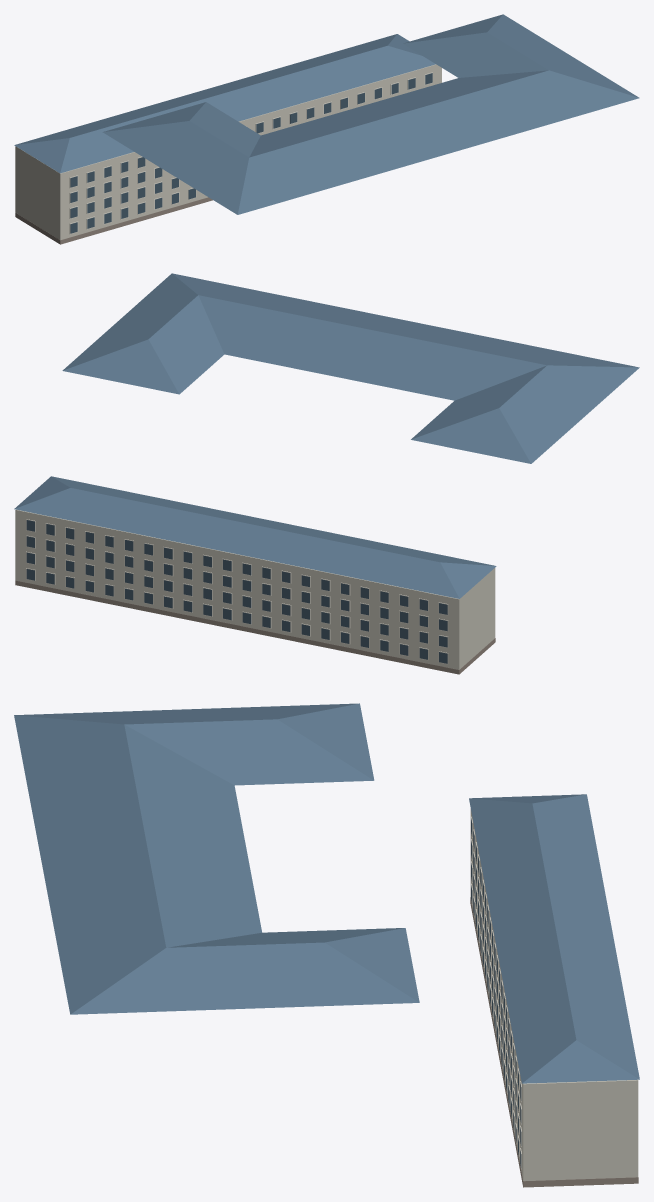
Rendered from SEU_building_patch_v14.glb.
The picture shows the model from 3 angles, top to bottom: view 1: azimuth 30°, elevation 25°; view 2: azimuth 150°, elevation 25°; view 3: azimuth 270°, elevation 25°; orthographic projection. The views are drawn at different scales.
Visible parts, largest first — view 1: TJB_SOUTH_U_HIPPED_ROOF, TJB_NORTH_HIPPED_ROOF, TJB_NORTH_CORE, TJB_NORTH_GLAZING, TJB_NORTH_FRAME_GRID_4_VISIBLE_ROWS, TJB_NORTH_BASE; view 2: TJB_SOUTH_U_HIPPED_ROOF, TJB_NORTH_CORE, TJB_NORTH_HIPPED_ROOF, TJB_NORTH_GLAZING, TJB_NORTH_FRAME_GRID_4_VISIBLE_ROWS, TJB_NORTH_BASE; view 3: TJB_SOUTH_U_HIPPED_ROOF, TJB_NORTH_HIPPED_ROOF, TJB_NORTH_CORE, TJB_NORTH_GLAZING, TJB_NORTH_FRAME_GRID_4_VISIBLE_ROWS, TJB_NORTH_BASE.
Part boxes in pixels (x1=…): TJB_SOUTH_U_HIPPED_ROOF: x1=102, y1=14, x2=639, y2=214; TJB_NORTH_HIPPED_ROOF: x1=14, y1=34, x2=435, y2=173; TJB_NORTH_CORE: x1=15, y1=64, x2=441, y2=240; TJB_NORTH_GLAZING: x1=70, y1=73, x2=432, y2=233; TJB_NORTH_FRAME_GRID_4_VISIBLE_ROWS: x1=69, y1=72, x2=432, y2=234; TJB_NORTH_BASE: x1=15, y1=197, x2=212, y2=244; TJB_SOUTH_U_HIPPED_ROOF: x1=62, y1=273, x2=639, y2=463; TJB_NORTH_CORE: x1=15, y1=509, x2=495, y2=669; TJB_NORTH_HIPPED_ROOF: x1=14, y1=476, x2=496, y2=598; TJB_NORTH_GLAZING: x1=26, y1=520, x2=447, y2=663; TJB_NORTH_FRAME_GRID_4_VISIBLE_ROWS: x1=26, y1=519, x2=448, y2=664; TJB_NORTH_BASE: x1=15, y1=580, x2=495, y2=674; TJB_SOUTH_U_HIPPED_ROOF: x1=14, y1=703, x2=419, y2=1014; TJB_NORTH_HIPPED_ROOF: x1=469, y1=794, x2=639, y2=1083; TJB_NORTH_CORE: x1=470, y1=809, x2=638, y2=1180; TJB_NORTH_GLAZING: x1=471, y1=818, x2=521, y2=1167; TJB_NORTH_FRAME_GRID_4_VISIBLE_ROWS: x1=471, y1=816, x2=521, y2=1169; TJB_NORTH_BASE: x1=470, y1=897, x2=638, y2=1187.
Size of the model in its own units: 79.49 by 26.58 by 65.98.
